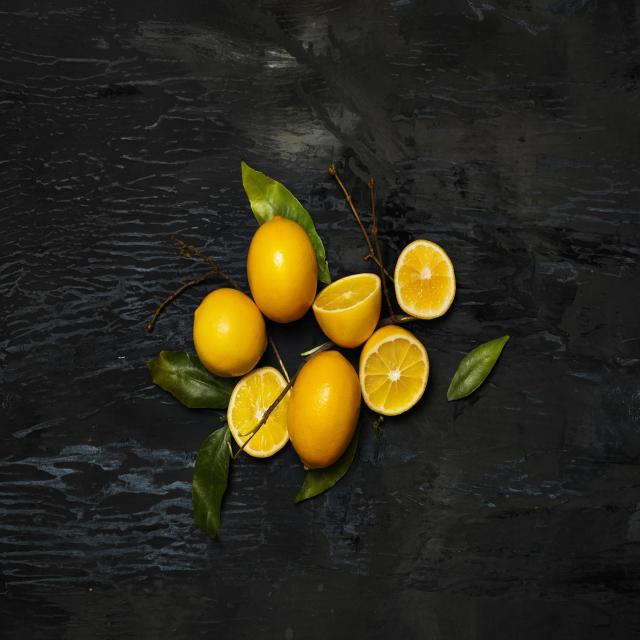lemon: (284, 347, 366, 472), (390, 235, 457, 321)
